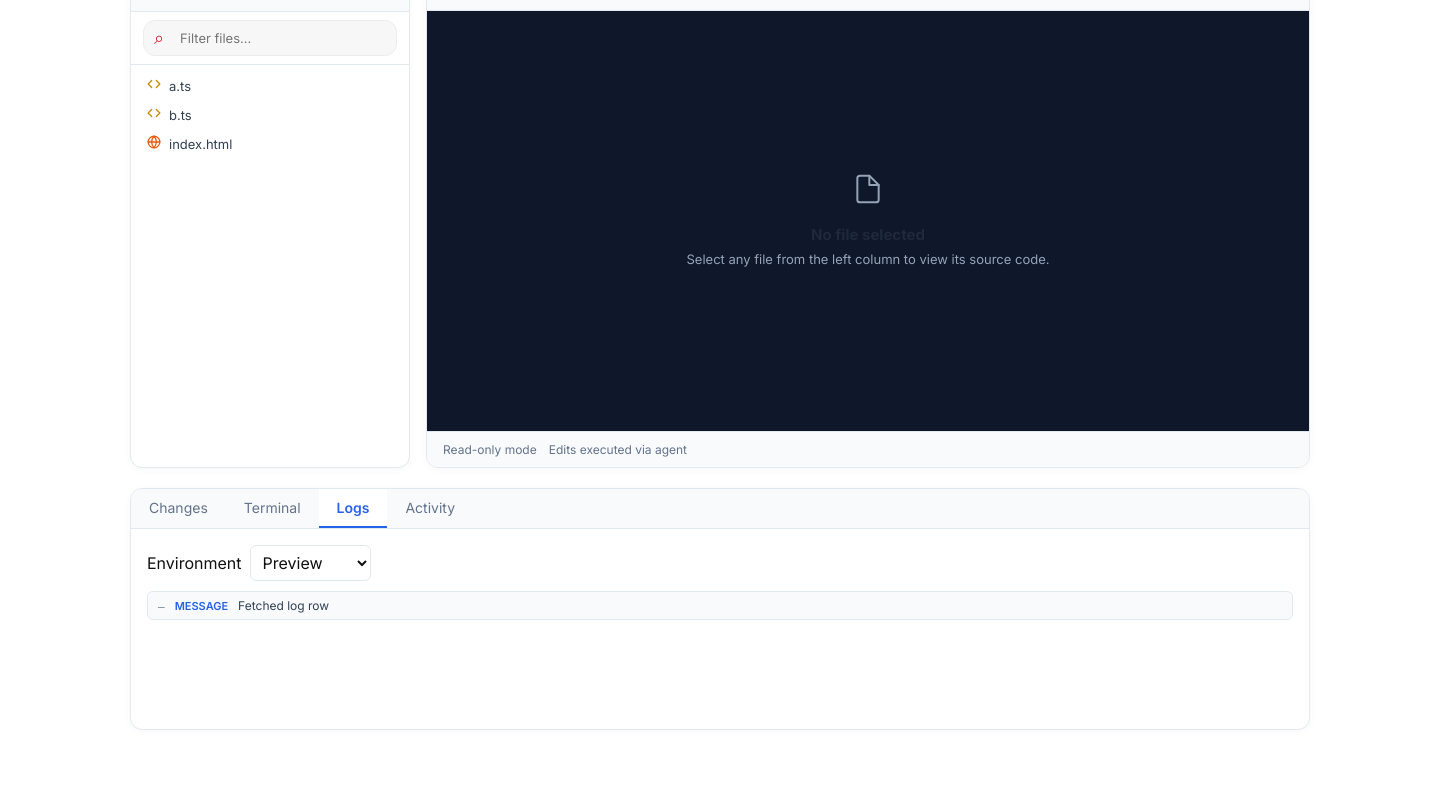
Test case: loads Logs and Activity quietly and keeps the loaded Activity on tab switches
This screenshot has width=1440, height=810.
Later steps or results of the test are not shown.
(page scrolled)
Check: the element showing "Environment — message Fetched log row" is shown, box left=147, top=545, right=1293, bottom=620
Check: the element with class "bottom-tab-content" shows "Fetched log row", box left=238, top=598, right=329, bottom=613
Step 1. Click the tab "Activity" → coordinates (430, 509), box left=388, top=489, right=473, bottom=528
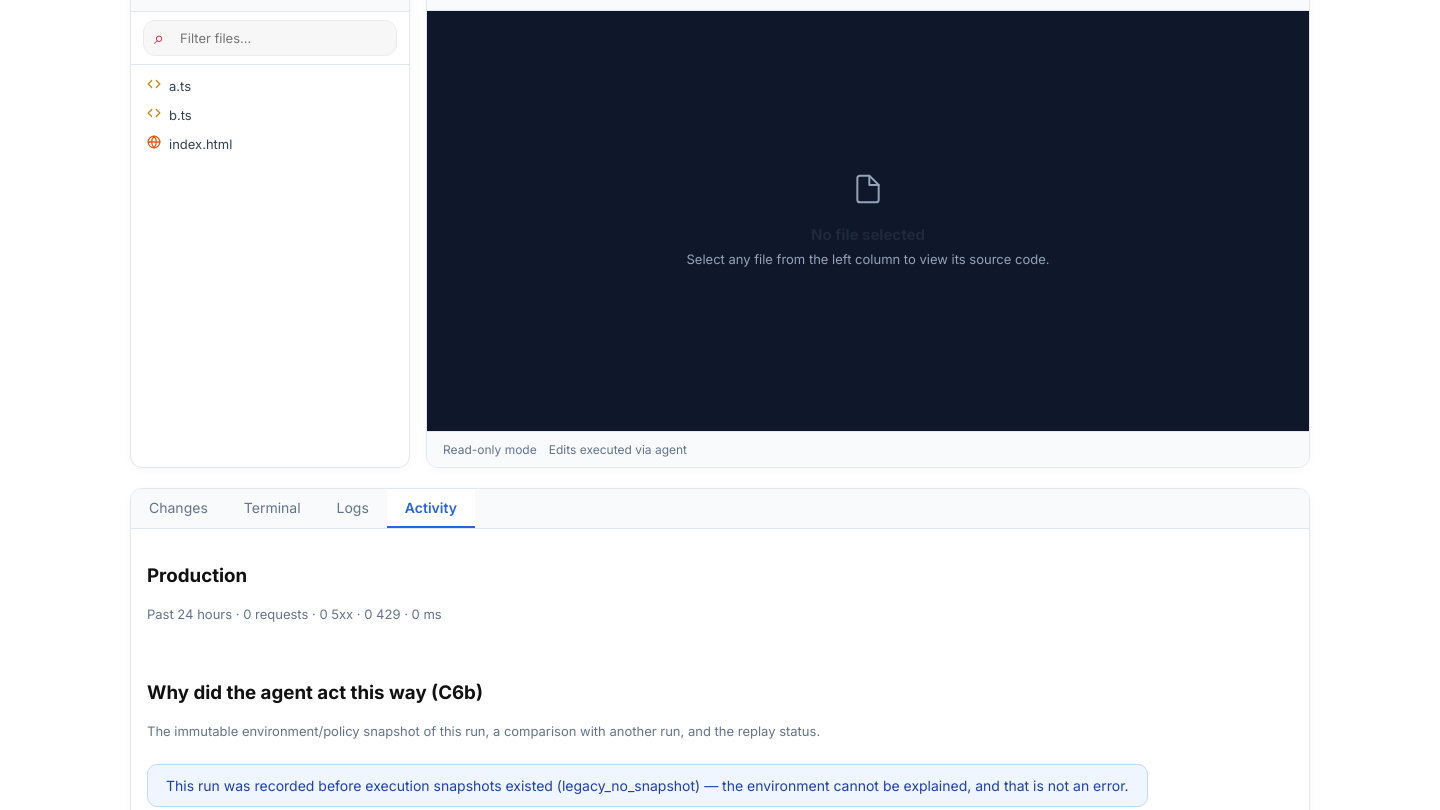
Check: the element with class "bottom-tab-content" shows "legacy_no_snapshot", box left=166, top=777, right=1129, bottom=794
